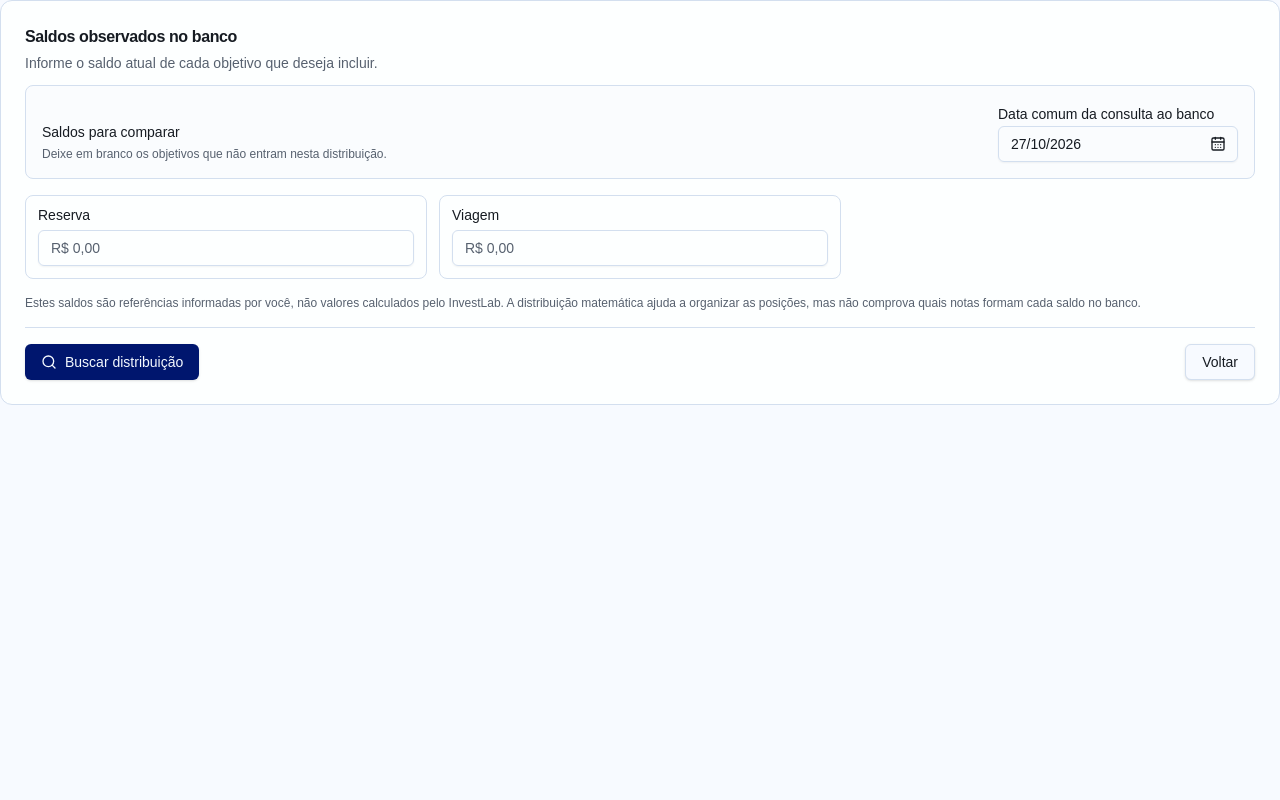
PortfolioObjectiveOrganizer › keeps an explicit zero balance in the requested targets
Type "0" into the field labelled "Reserva" at [226, 248], box [38, 230, 414, 266]
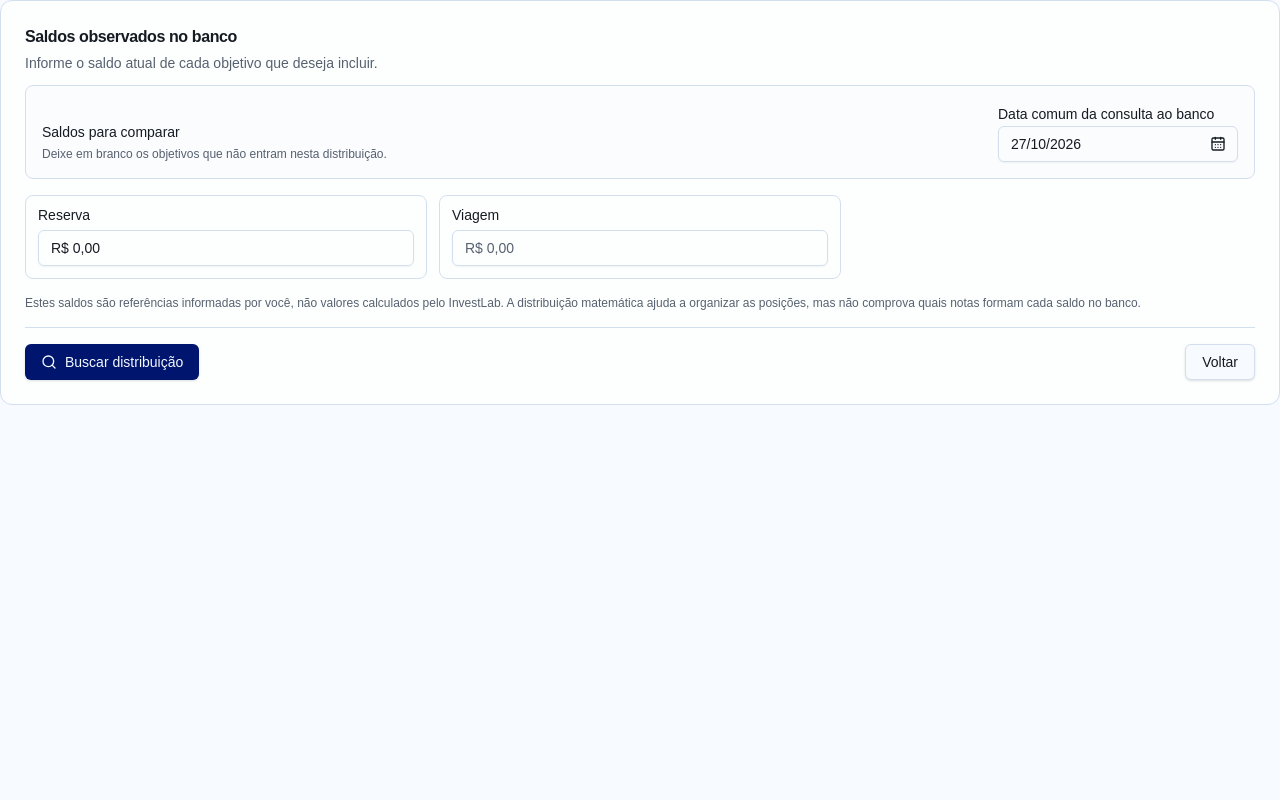
Click the button "Buscar distribuição" at [112, 362], box [25, 344, 199, 380]
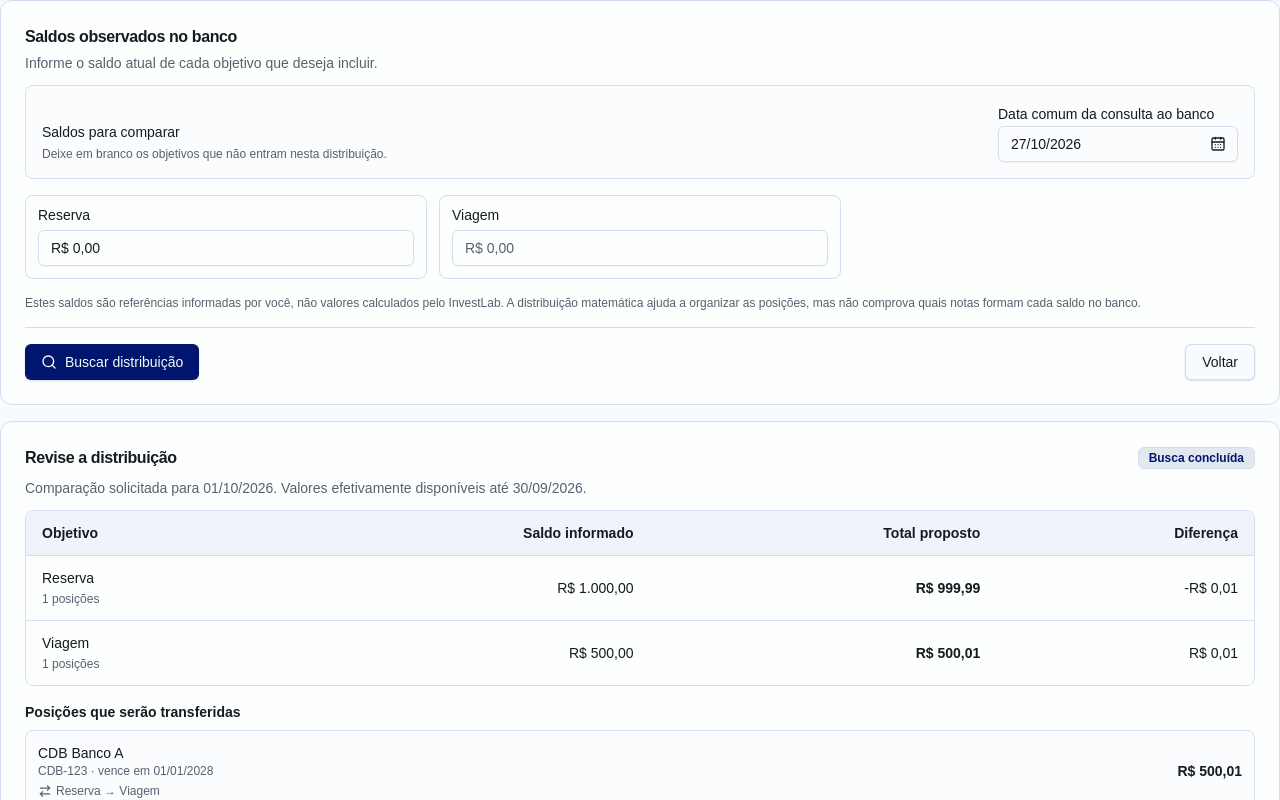
expect the text "Revise a distribuição" is shown: met, box [25, 446, 177, 470]
